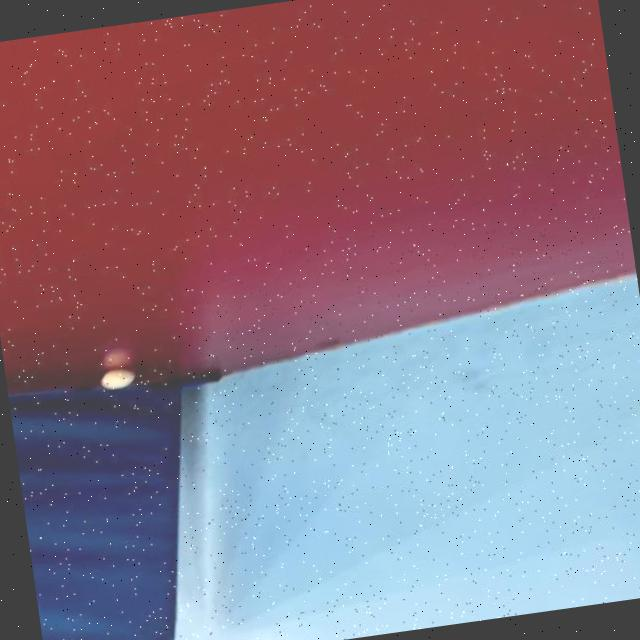ping-pong-ball: (92, 361, 144, 394)
